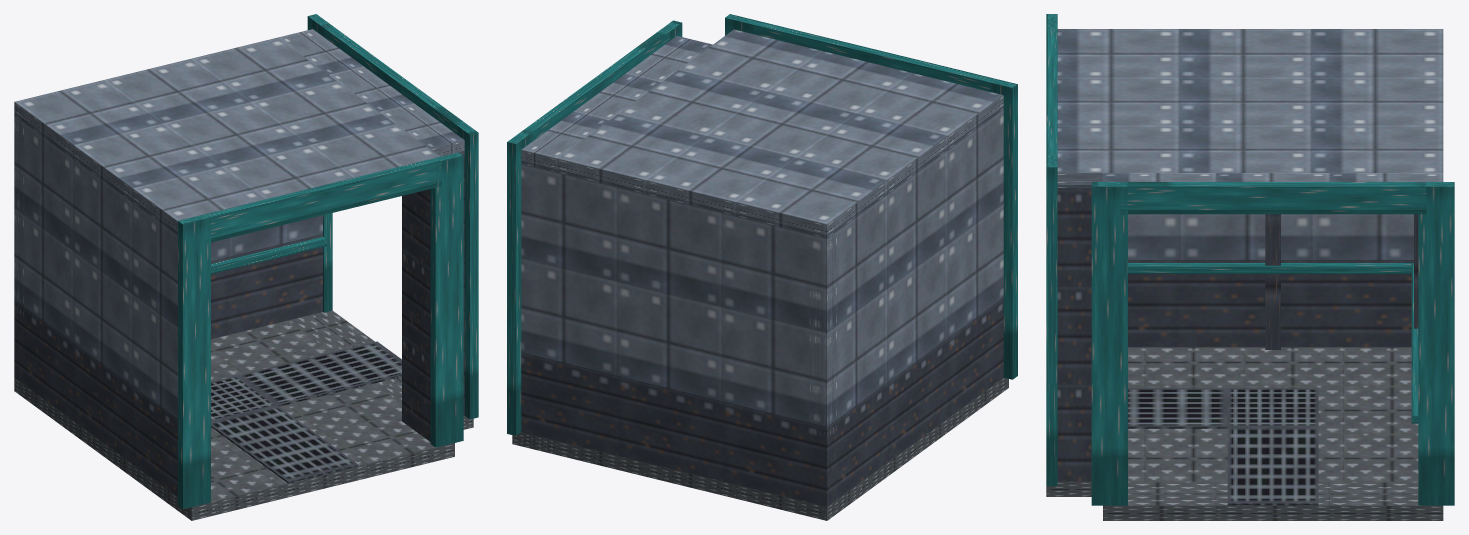
Rendered from corridor_corner_4m.obj.
3 views of the same model, side by side, from view 1: azimuth 30°, elevation 25°; view 2: azimuth 150°, elevation 25°; view 3: azimuth 270°, elevation 25° (orthographic). The views are drawn at different scales.
Visible parts, largest first — view 1: corridor_corner_4m; view 2: corridor_corner_4m; view 3: corridor_corner_4m.
Boxes of the visible parts, <box> form: corridor_corner_4m: <box>14,14,478,520</box>; corridor_corner_4m: <box>507,14,1017,520</box>; corridor_corner_4m: <box>1046,14,1454,520</box>.
Bounding box in the file's own units: 3.6 × 3.25 × 3.6.
Materials: 1 (1 with a texture image).
